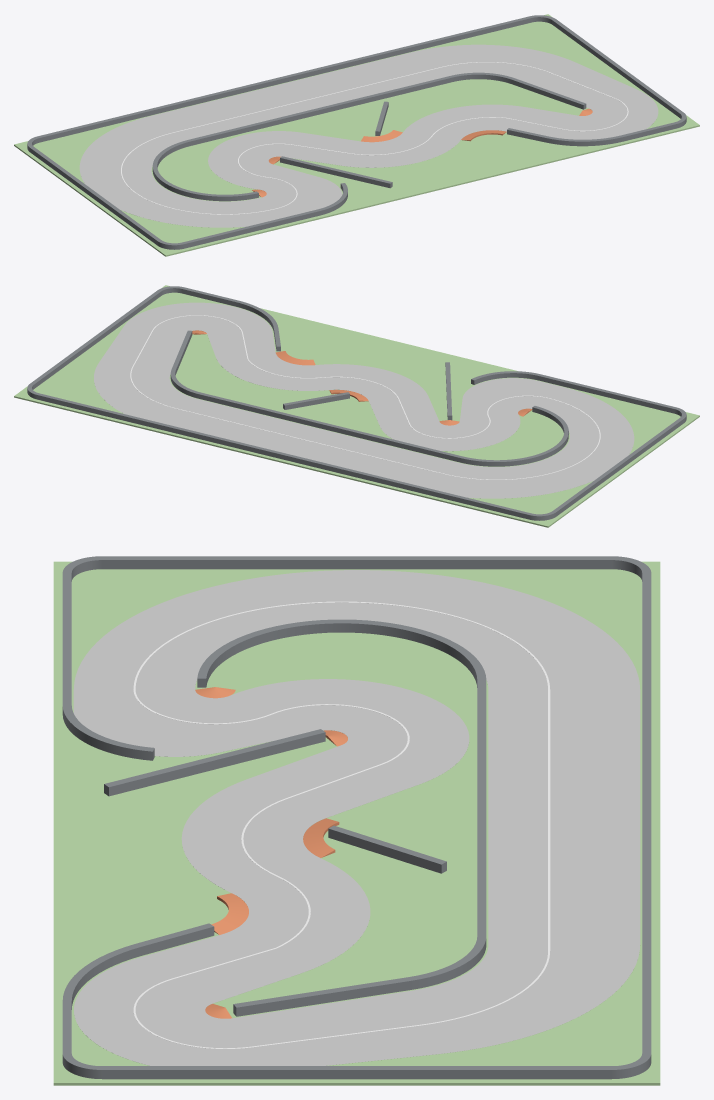
The model's file is track.dae.
The picture shows the model from 3 angles, top to bottom: view 1: azimuth 30°, elevation 25°; view 2: azimuth 150°, elevation 25°; view 3: azimuth 270°, elevation 25°; orthographic projection. The views are drawn at different scales.
Parts seen in each view (by area): view 1: mesh55.001, mesh41.001, mesh57.001, mesh23.001, mesh6.001, mesh123.001, mesh84.001, mesh127.001, mesh38.001, mesh26.001, mesh8.001, mesh22.001 (+3 smaller); view 2: mesh55.001, mesh41.001, mesh57.001, mesh23.001, mesh20.001, mesh123.001, mesh121.001, mesh84.001, mesh36.001, mesh2.001, mesh8.001, mesh22.001 (+1 smaller); view 3: mesh55.001, mesh41.001, mesh57.001, mesh23.001, mesh123.001, mesh4.001, mesh18.001, mesh84.001, mesh126.001, mesh109.001, mesh39.001, mesh119.001 (+4 smaller).
Part boxes in pixels (bbox=[...]): mesh55.001: bbox=[79, 44, 658, 227]; mesh41.001: bbox=[14, 14, 699, 255]; mesh57.001: bbox=[151, 79, 588, 201]; mesh23.001: bbox=[27, 15, 686, 245]; mesh6.001: bbox=[39, 18, 531, 142]; mesh123.001: bbox=[152, 72, 585, 196]; mesh84.001: bbox=[121, 62, 628, 214]; mesh127.001: bbox=[191, 77, 452, 145]; mesh38.001: bbox=[165, 125, 699, 256]; mesh26.001: bbox=[184, 211, 319, 248]; mesh8.001: bbox=[552, 21, 679, 117]; mesh22.001: bbox=[30, 148, 157, 245]; mesh55.001: bbox=[94, 302, 634, 498]; mesh41.001: bbox=[14, 285, 699, 526]; mesh57.001: bbox=[169, 334, 569, 466]; mesh23.001: bbox=[27, 286, 686, 516]; mesh20.001: bbox=[37, 395, 529, 519]; mesh123.001: bbox=[170, 330, 568, 461]; mesh121.001: bbox=[199, 394, 460, 462]; mesh84.001: bbox=[130, 315, 600, 479]; mesh36.001: bbox=[14, 396, 548, 527]; mesh2.001: bbox=[539, 376, 674, 413]; mesh8.001: bbox=[34, 292, 161, 388]; mesh22.001: bbox=[556, 419, 683, 516]; mesh55.001: bbox=[73, 570, 640, 1065]; mesh41.001: bbox=[53, 561, 660, 1082]; mesh57.001: bbox=[195, 632, 488, 1018]; mesh23.001: bbox=[62, 556, 651, 1069]; mesh123.001: bbox=[197, 619, 486, 1007]; mesh4.001: bbox=[102, 560, 611, 569]; mesh18.001: bbox=[102, 1070, 611, 1079]; mesh84.001: bbox=[133, 601, 550, 1048]; mesh126.001: bbox=[206, 623, 477, 687]; mesh109.001: bbox=[109, 732, 325, 796]; mesh39.001: bbox=[53, 1083, 660, 1085]; mesh119.001: bbox=[236, 980, 411, 1016].
Size of the model in its own units: 11.95 by 5.88 by 0.1273.
